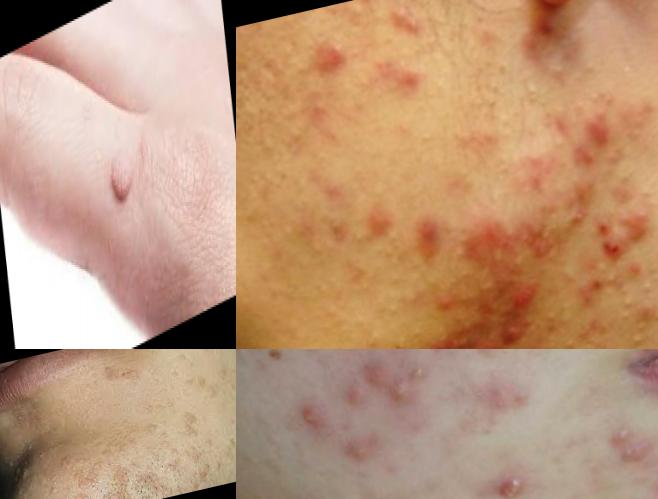flat_wart: (104, 106, 149, 258), (3, 462, 76, 499), (99, 353, 156, 397), (164, 350, 212, 401), (94, 422, 146, 462), (138, 399, 178, 448), (174, 408, 204, 440), (74, 468, 100, 492)
papular: (375, 64, 437, 114), (490, 274, 546, 327), (406, 211, 455, 265), (312, 40, 362, 86), (592, 220, 629, 277), (617, 435, 658, 483), (580, 103, 622, 147), (521, 8, 566, 48), (349, 352, 395, 390), (368, 202, 401, 240), (624, 209, 658, 243), (464, 334, 505, 350)
purulent: (477, 458, 548, 499), (287, 398, 340, 439), (385, 375, 417, 407), (407, 360, 432, 386)
whitehead: (514, 69, 549, 116), (253, 130, 291, 170), (379, 293, 418, 330), (383, 1, 418, 42), (539, 56, 579, 87), (573, 52, 607, 87), (552, 264, 589, 295), (622, 325, 658, 350), (630, 272, 658, 303), (473, 75, 504, 103), (551, 334, 584, 350), (646, 156, 658, 199), (14, 409, 33, 429)
